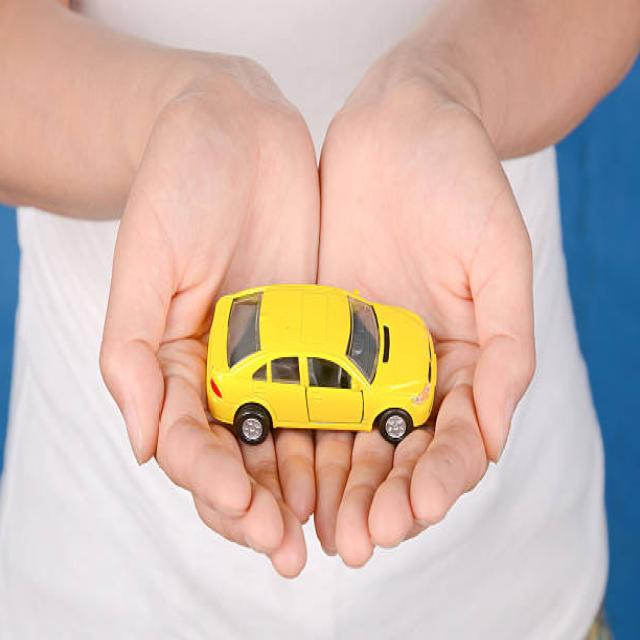Car: (206, 281, 438, 446)
